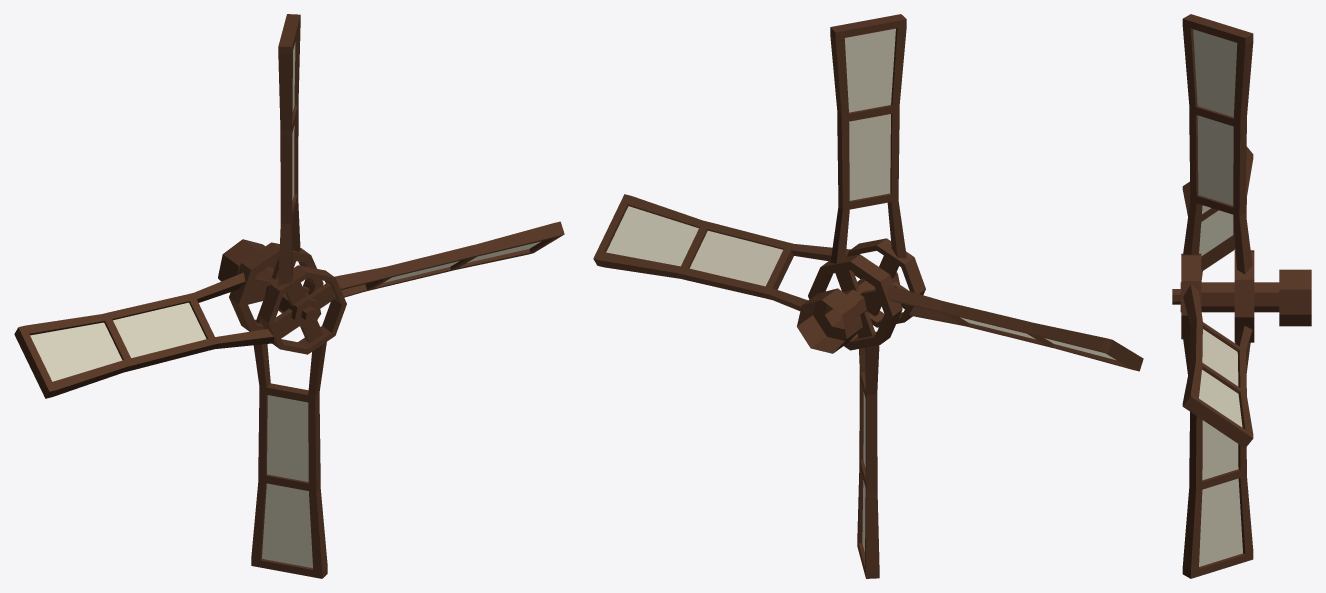
Rendered from LPWarPack_Windmill.fbx.
The picture shows the model from 3 angles, left to right: view 1: azimuth 30°, elevation 25°; view 2: azimuth 150°, elevation 25°; view 3: azimuth 270°, elevation 25°; orthographic projection.
Visible parts, largest first — view 1: Windmill; view 2: Windmill; view 3: Windmill.
Part boxes in pixels (bbox=[...]): Windmill: bbox=[14, 14, 564, 578]; Windmill: bbox=[593, 14, 1143, 578]; Windmill: bbox=[1172, 14, 1311, 578].
Size of the model in its own units: 955 by 955 by 223.
